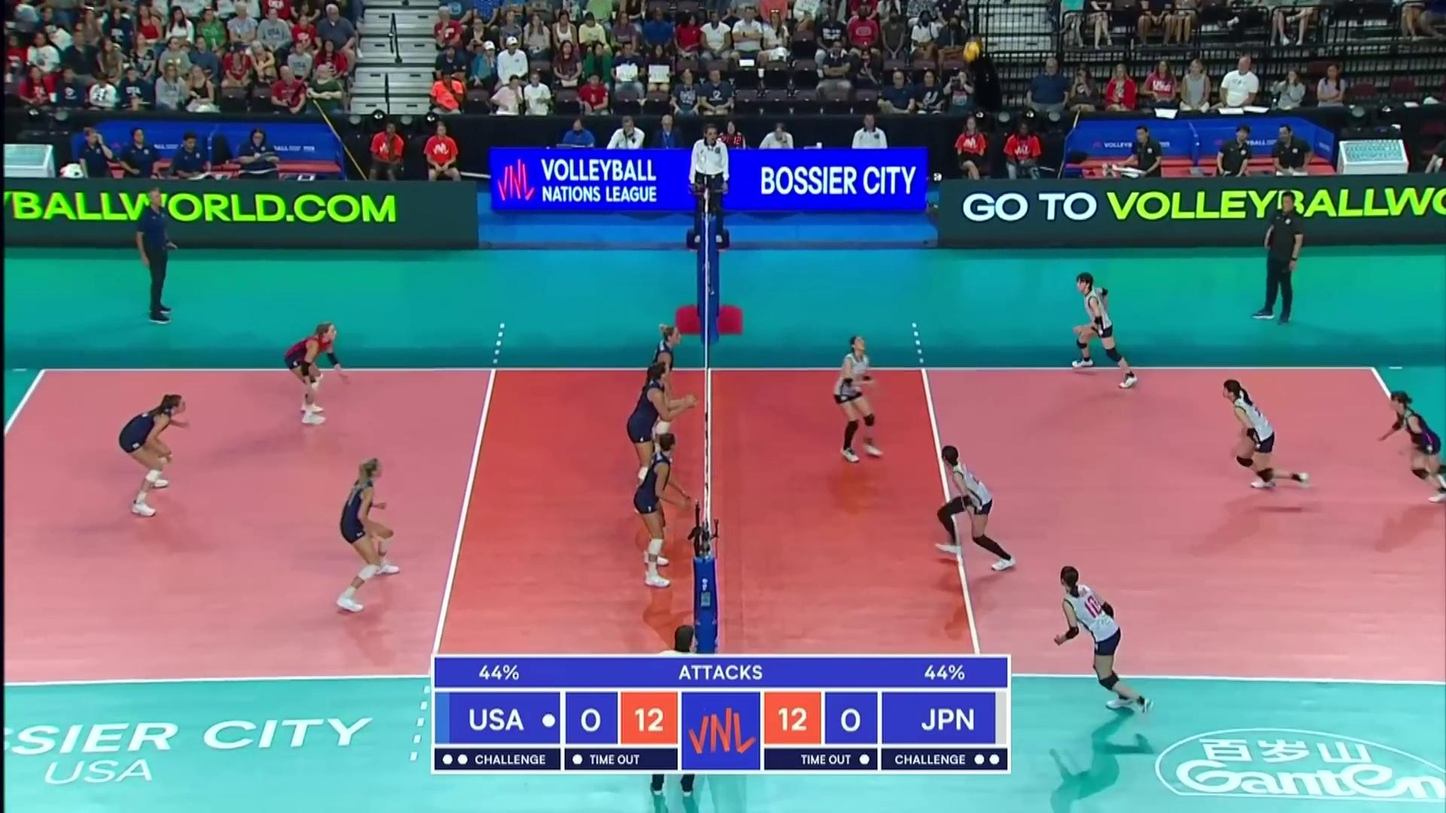player: (1055, 569, 1152, 712), (1220, 377, 1312, 494), (626, 364, 695, 513), (335, 456, 399, 611), (939, 443, 1013, 571), (122, 394, 190, 515), (1377, 392, 1446, 509), (1074, 272, 1142, 386), (636, 433, 686, 586), (283, 323, 345, 425), (835, 335, 884, 463), (645, 321, 683, 469)
refree: (650, 626, 704, 796), (688, 126, 731, 244)
